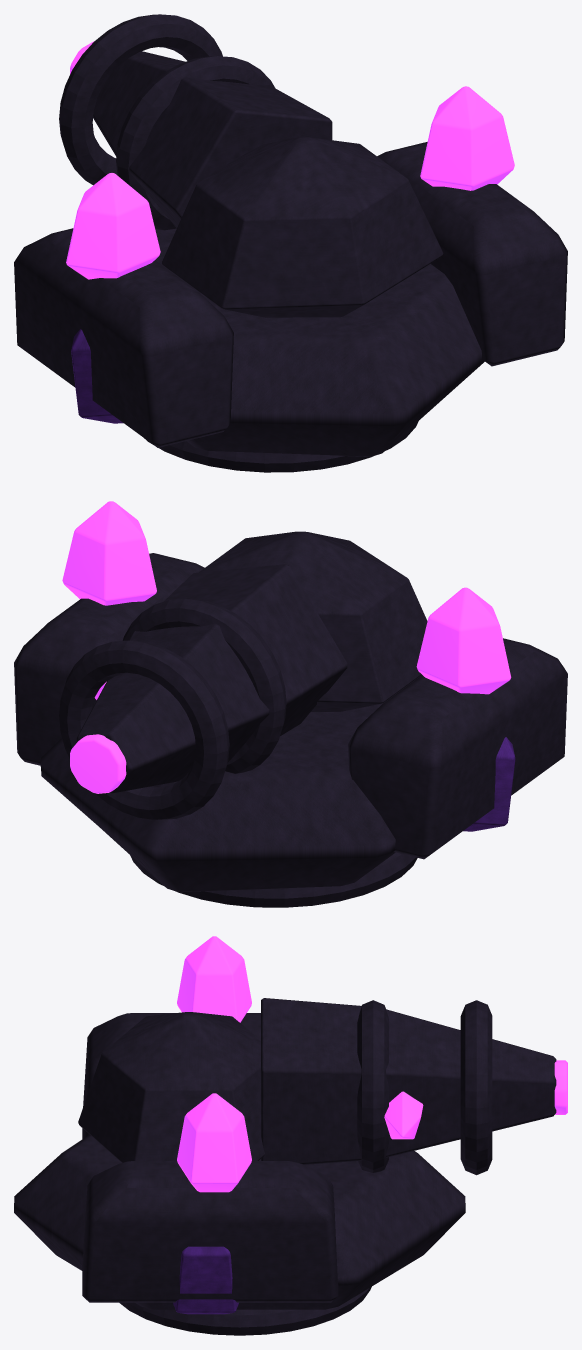
The model's file is conclave_monolithe.gltf.
The picture shows the model from 3 angles, top to bottom: view 1: azimuth 30°, elevation 25°; view 2: azimuth 150°, elevation 25°; view 3: azimuth 270°, elevation 25°; orthographic projection. The views are drawn at different scales.
Parts seen in each view (by area): view 1: Body.003_Geometry, TurretYaw.003_Geometry, GunRecoil.003_Geometry; view 2: Body.003_Geometry, GunRecoil.003_Geometry, TurretYaw.003_Geometry; view 3: Body.003_Geometry, GunRecoil.003_Geometry, TurretYaw.003_Geometry.
Boxes of the visible parts, <box> form: Body.003_Geometry: <box>14,86,567,472</box>; TurretYaw.003_Geometry: <box>162,137,443,317</box>; GunRecoil.003_Geometry: <box>59,14,332,230</box>; Body.003_Geometry: <box>14,501,567,907</box>; GunRecoil.003_Geometry: <box>59,564,347,819</box>; TurretYaw.003_Geometry: <box>199,531,427,711</box>; Body.003_Geometry: <box>14,936,465,1335</box>; GunRecoil.003_Geometry: <box>261,998,567,1175</box>; TurretYaw.003_Geometry: <box>78,1012,264,1162</box>.
Size of the model in its own units: 2.17 by 1.44 by 2.63.
3 materials, 2 textured.
